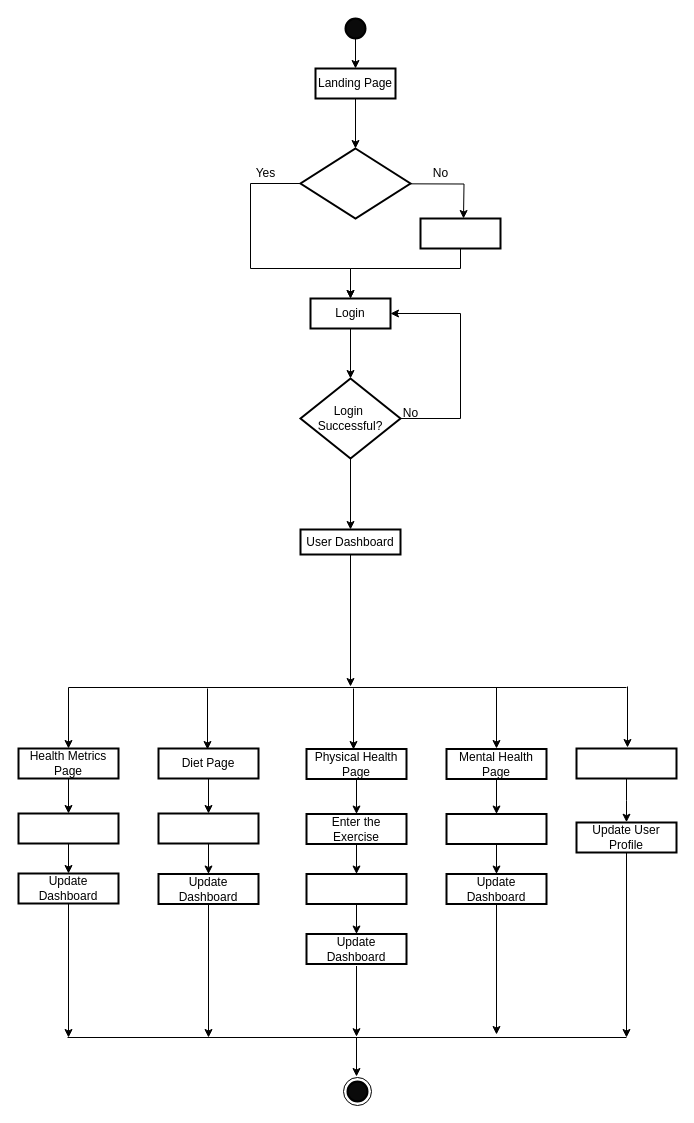
The diagram is 694 pixels wide and 1123 high, and some of its shapes have lost their labels. The centre of each missing label's shape, as x and y in pixels:
"Already Registered?" belongs at pixel 355 183.
"Calculate Calories" belongs at pixel 356 888.
"Enter Mood Details" belongs at pixel 496 828.
"Enter Required Details" belongs at pixel 208 828.
"Getting User Data" belongs at pixel 68 828.
"User Profile Details" belongs at pixel 626 763.
"User Registration" belongs at pixel 460 233.
